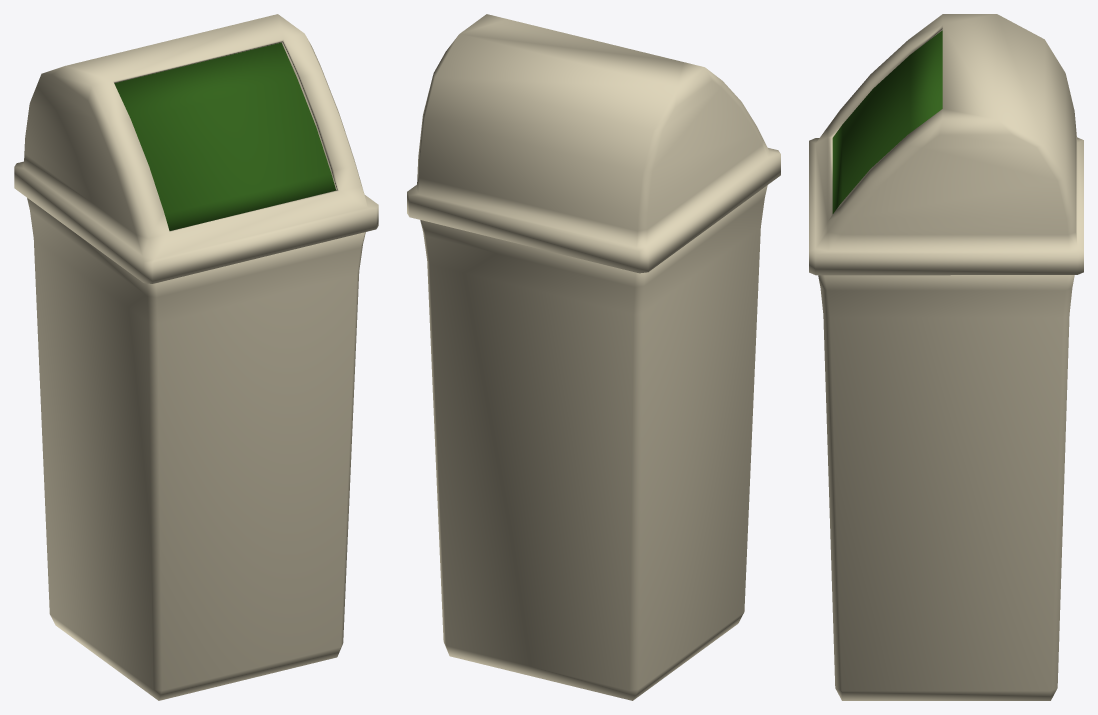
The model's file is TrashCan.glb.
3 views of the same model, side by side, from view 1: azimuth 30°, elevation 25°; view 2: azimuth 150°, elevation 25°; view 3: azimuth 270°, elevation 25° (orthographic). The views are drawn at different scales.
Visible parts, largest first — view 1: Body; view 2: Body; view 3: Body.
Boxes of the visible parts, bbox=[...] form: Body: bbox=[14, 14, 378, 700]; Body: bbox=[407, 14, 780, 700]; Body: bbox=[809, 14, 1083, 700].
Bounding box in the file's own units: 1.11 × 2.64 × 1.11.
